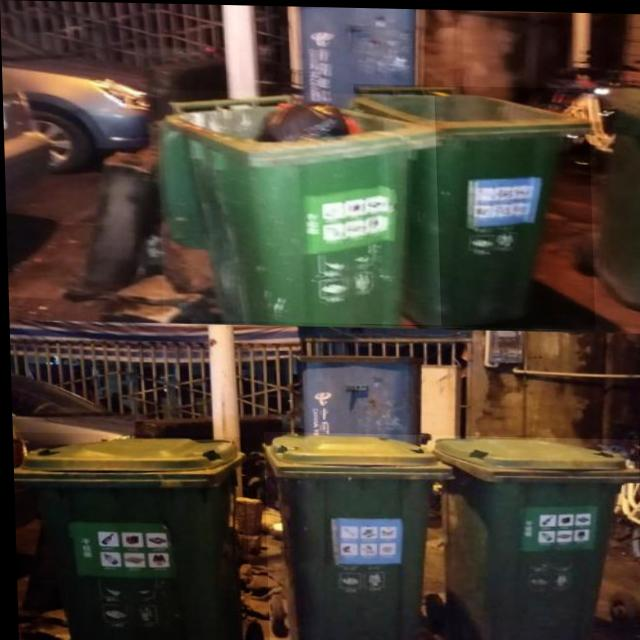garbage_bin: (353, 82, 594, 327), (10, 432, 247, 640), (430, 433, 640, 640), (261, 430, 451, 640)
overflow: (156, 89, 440, 324)
